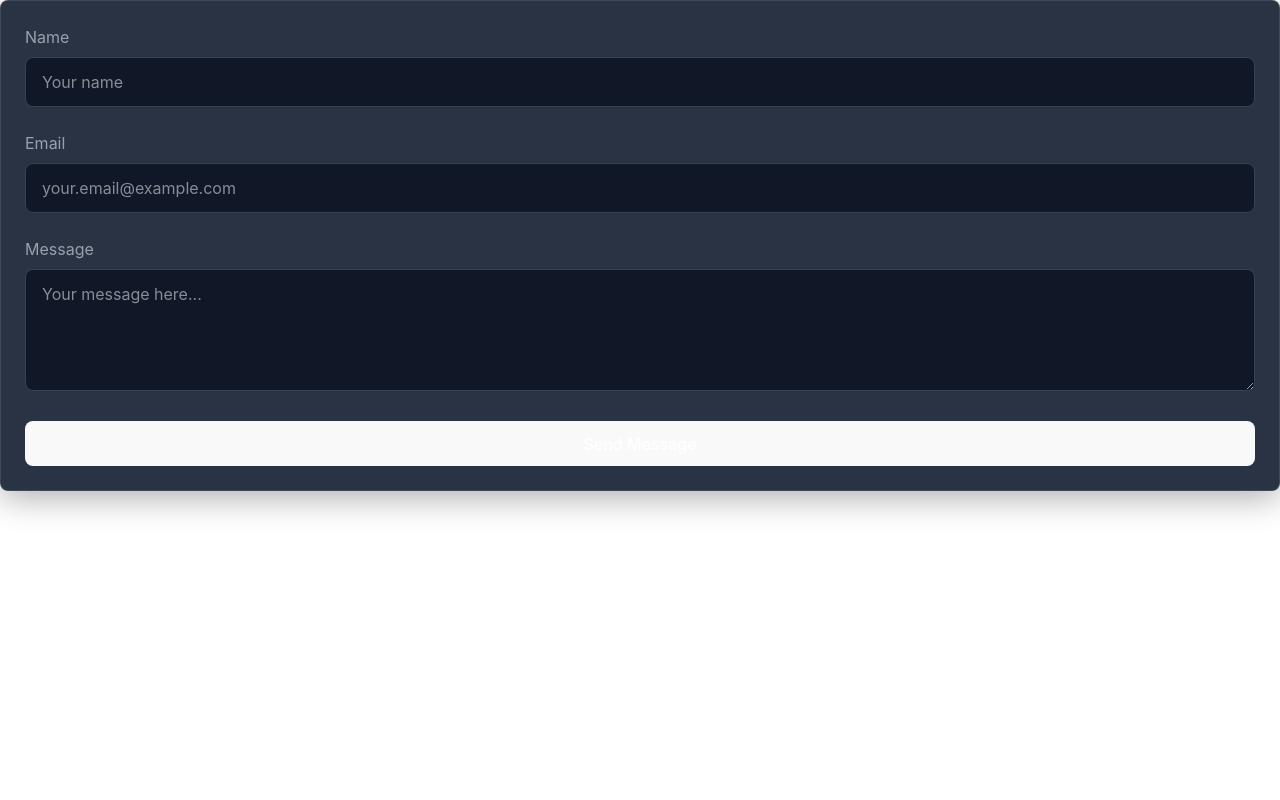
Scenario: ContactForm › Rate Limiting › should prevent multiple submissions within 30 seconds
First submission
Type "John Doe" into the field with placeholder "Your name" at (640, 82), box [25,57,1255,107]
Type "john@example.com" into the field with placeholder "your.email@example.com" at (640, 188), box [25,163,1255,213]
Type "First message" into the text box with placeholder "Your message here..." at (640, 330), box [25,269,1255,391]
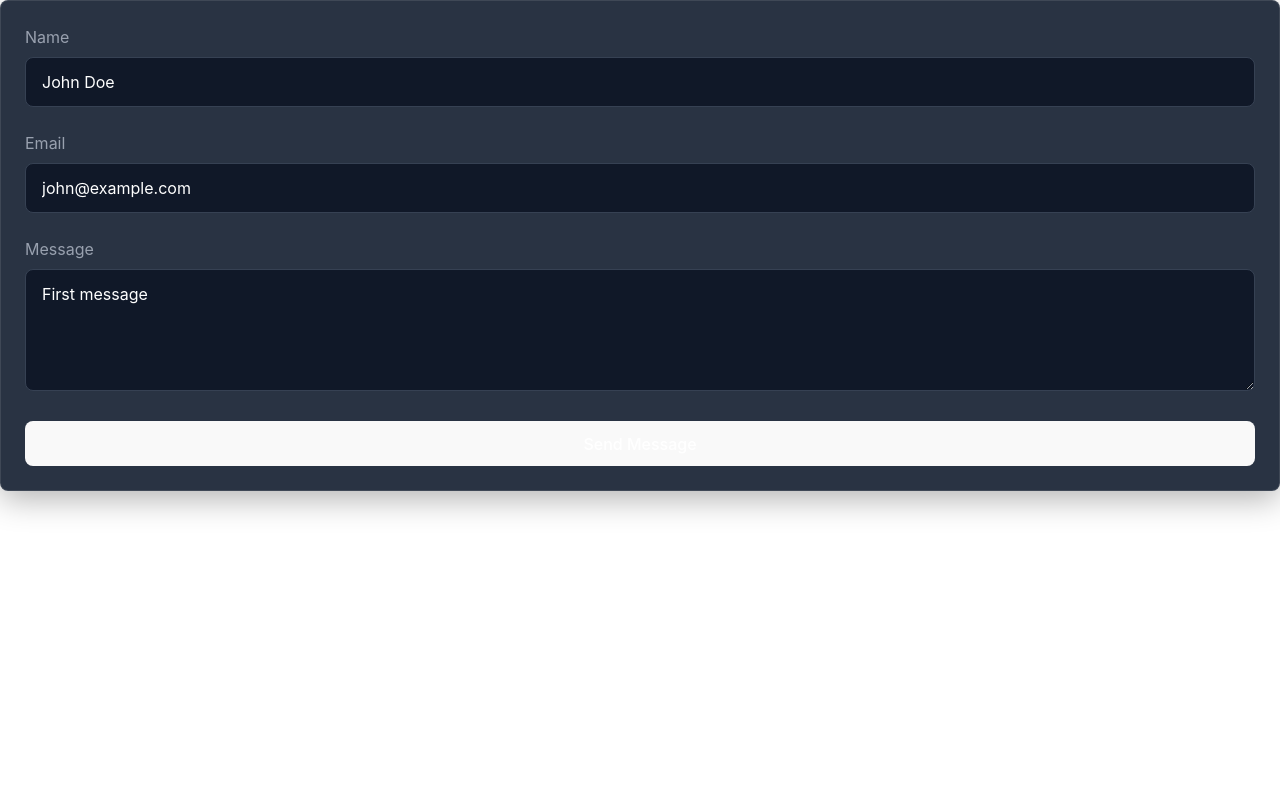
Submit the form with placeholder "your name", box [25,25,1255,466]
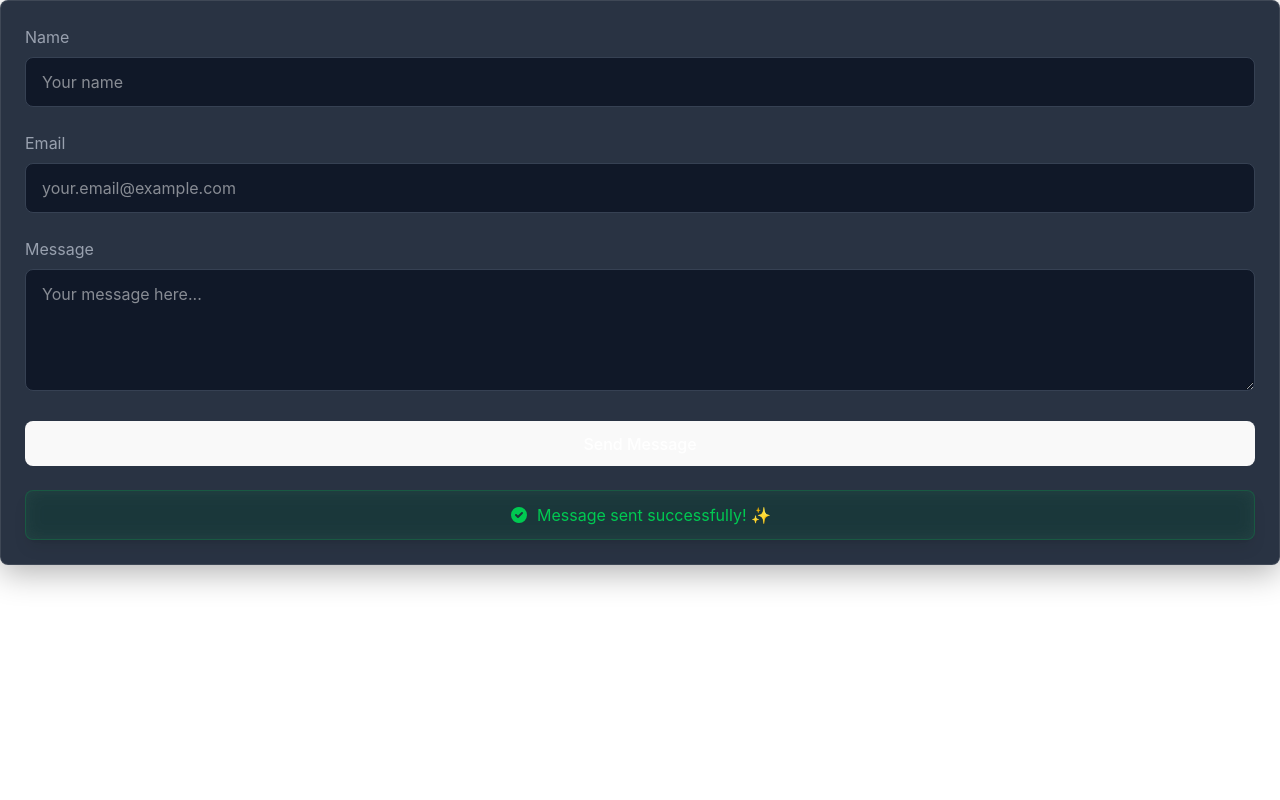
Try to submit again immediately
Type "Jane Doe" into the field with placeholder "Your name" at (640, 82), box [25,57,1255,107]
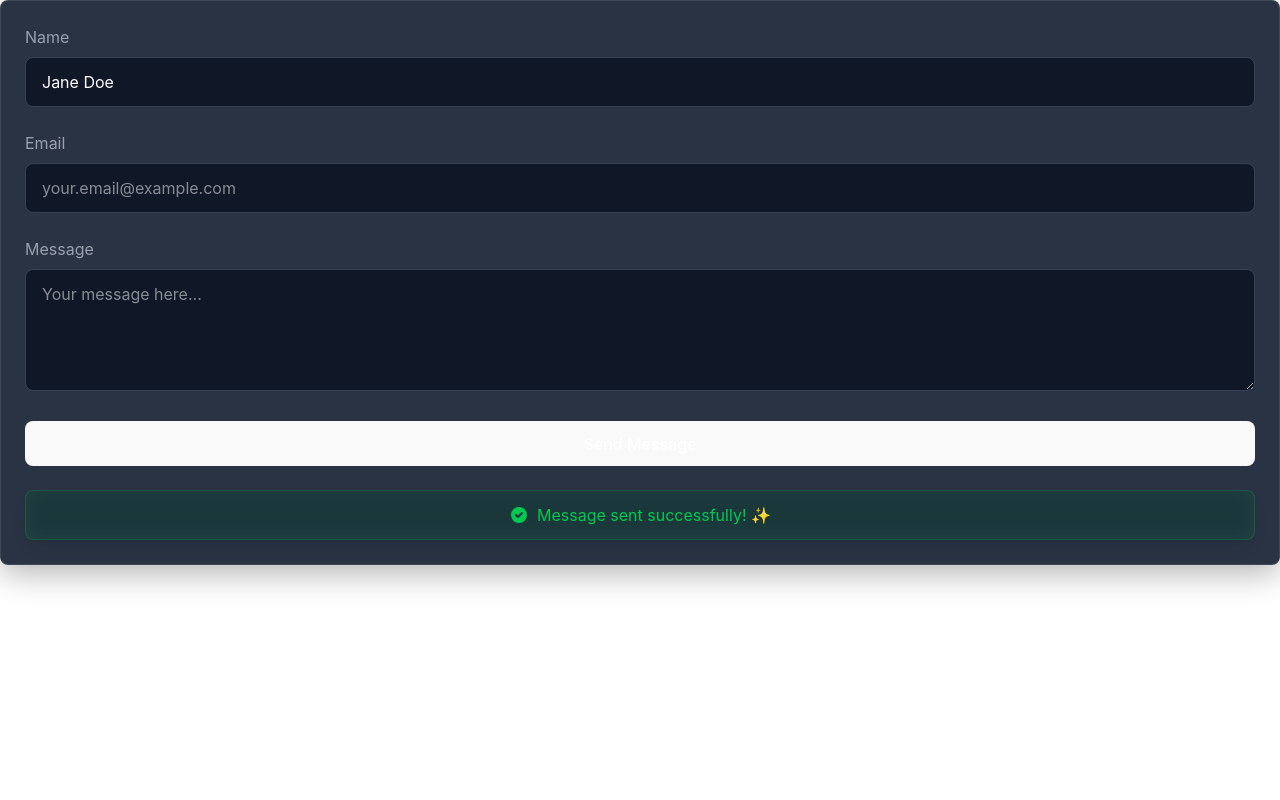
Type "jane@example.com" into the field with placeholder "your.email@example.com" at (640, 188), box [25,163,1255,213]
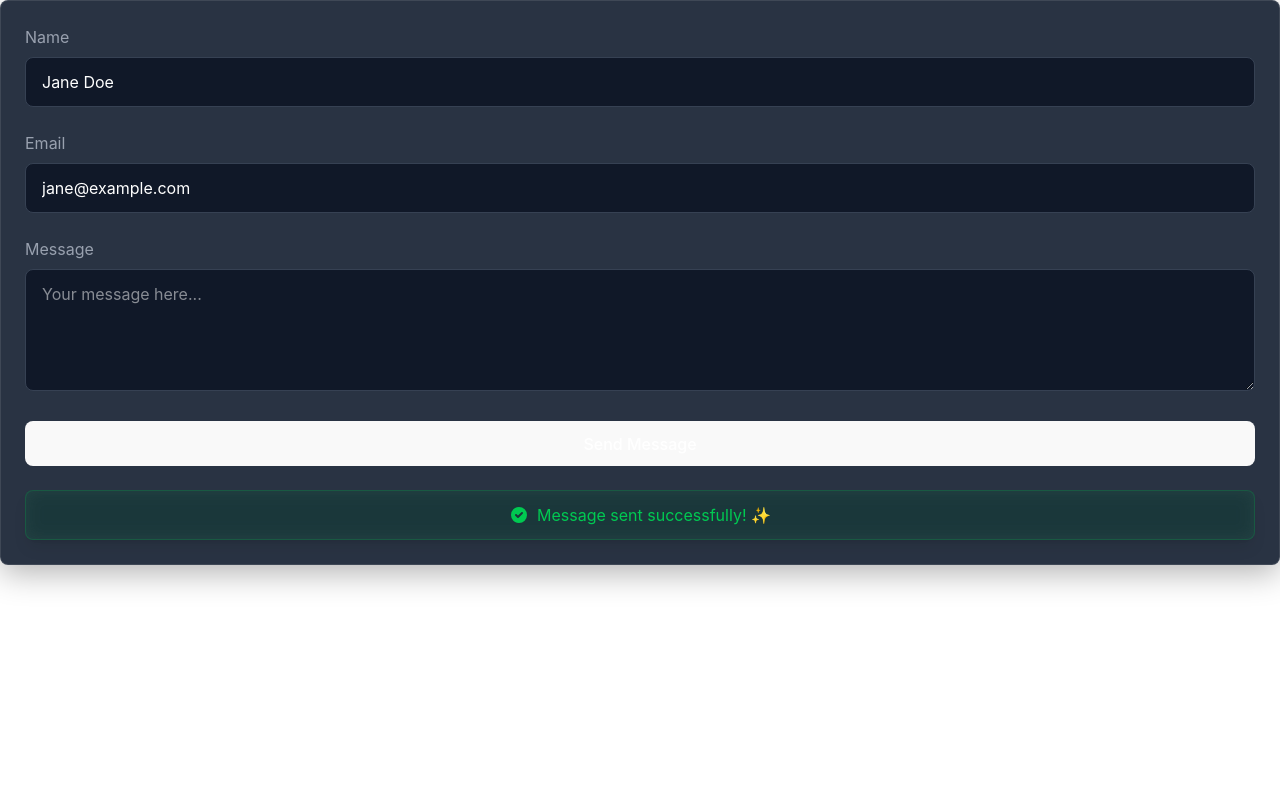
Type "Second message" into the text box with placeholder "Your message here..." at (640, 330), box [25,269,1255,391]
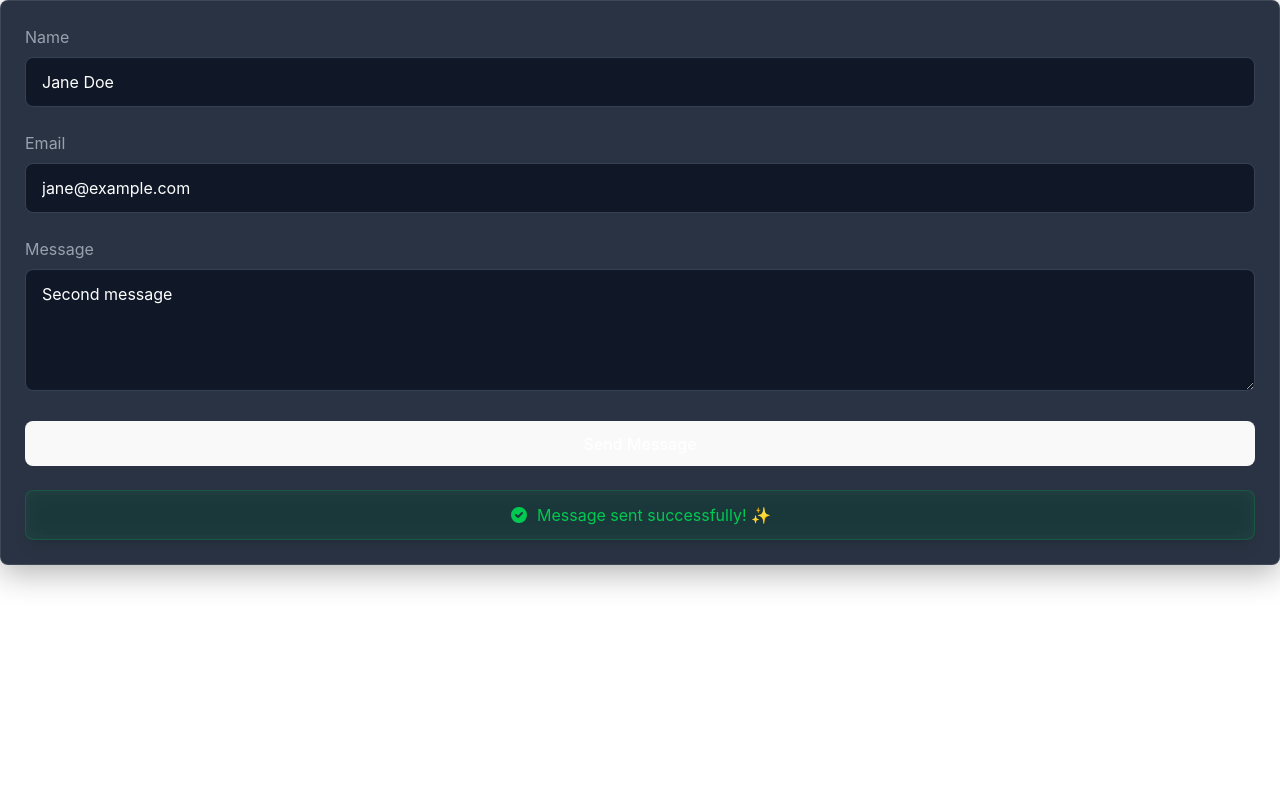
Submit the form with placeholder "your name"
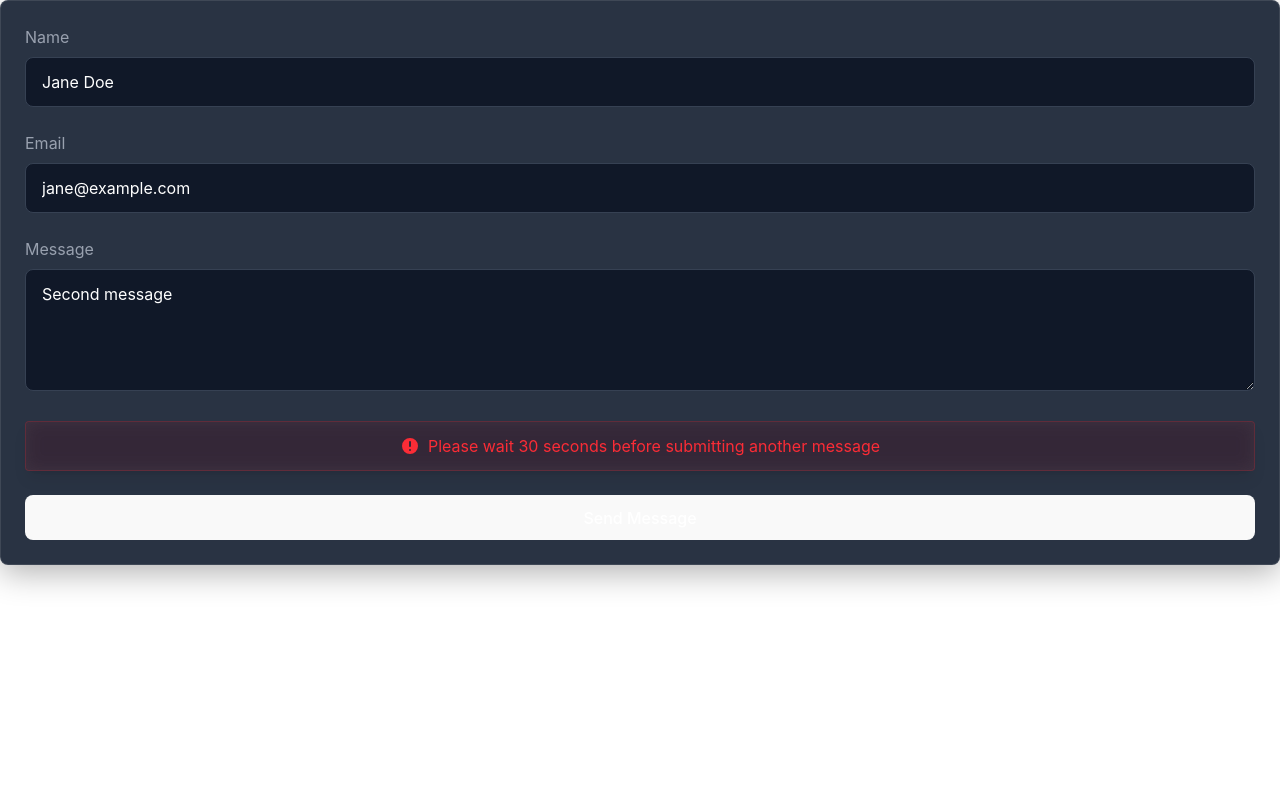
Result: the text "Please wait 30 seconds before submitting another message" is shown at [25,421,1255,471]
